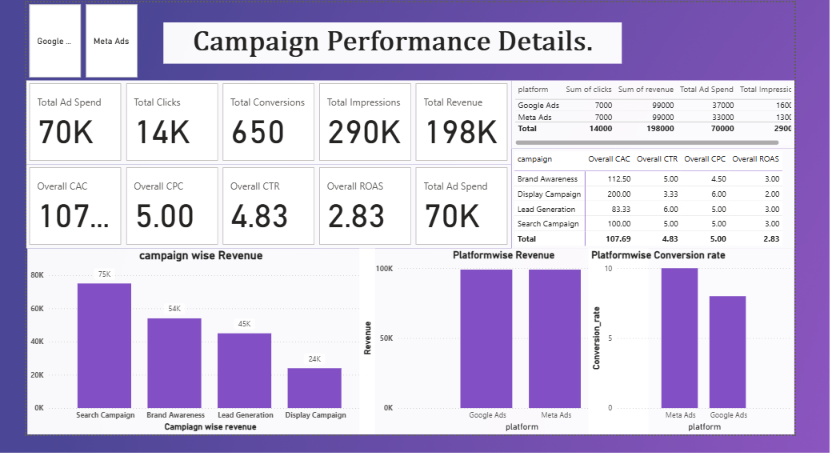

This screenshot's page, from the dashboard's own definition file:
{"tool":"powerbi","page":{"name":"Campaign Performance Details.","canvas":[1280,720],"ordinal":0},"visuals":[{"type":"cardVisual","fields":{"Data":["campaign_performance.Total Ad Spend","campaign_performance.Total Clicks","campaign_performance.Total Conversions","campaign_performance.Total Impressions","campaign_performance.Total Revenue"]},"box":[0,130.4,808.2,140],"z":0},{"type":"cardVisual","fields":{"Data":["campaign_performance.Overall CAC","campaign_performance.Overall CPC","campaign_performance.Overall CTR","campaign_performance.Overall ROAS","campaign_performance.Total Ad Spend"]},"box":[0,270.3,808.2,140],"z":1},{"type":"lineClusteredColumnComboChart","title":" campaign wise Revenue","fields":{"Category":["campaign_performance.campaign"],"Y":["Sum(campaign_performance.revenue)"]},"box":[1.4,410.3,579.1,310.1],"z":2},{"type":"columnChart","title":"Platformwise Revenue","fields":{"Category":["campaign_performance.platform"],"Y":["Sum(campaign_performance.revenue)"]},"box":[554.4,410.3,481.6,310.1],"z":3},{"type":"lineStackedColumnComboChart","title":"Platformwise Conversion rate","fields":{"Category":["campaign_performance.platform"],"Y":["Sum(campaign_performance.conversion_rate)"]},"box":[937.2,410.3,343.1,310.1],"z":4},{"type":"pivotTable","fields":{"Rows":["campaign_performance.campaign"],"Values":["campaign_performance.Overall CAC","campaign_performance.Overall CTR","campaign_performance.Overall CPC","campaign_performance.Overall ROAS"]},"box":[808.2,242.9,472,167.4],"z":5},{"type":"tableEx","fields":{"Values":["campaign_performance.platform","Sum(campaign_performance.clicks)","Sum(campaign_performance.revenue)","campaign_performance.Total Ad Spend","campaign_performance.Total Impressions"]},"box":[808.3,130,471.7,113.3],"z":6},{"type":"textbox","box":[227.8,32.9,764.3,68.6],"z":7},{"type":"advancedSlicerVisual","fields":{"Values":["campaign_performance.platform"]},"box":[993.3,0,286.7,130],"z":8}]}

Visuals, with their boxes in screenshot pixels (x1, y1, x2, y2):
cardVisual - campaign_performance.Total Ad Spend x campaign_performance.Total Clicks: crop(24, 78, 508, 162)
cardVisual - campaign_performance.Overall CAC x campaign_performance.Overall CPC: crop(24, 162, 508, 246)
" campaign wise Revenue" lineClusteredColumnComboChart: crop(25, 246, 372, 432)
"Platformwise Revenue" columnChart: crop(356, 246, 645, 432)
"Platformwise Conversion rate" lineStackedColumnComboChart: crop(586, 246, 792, 432)
pivotTable - campaign_performance.campaign x campaign_performance.Overall CAC: crop(508, 146, 791, 246)
tableEx - campaign_performance.platform x Sum(campaign_performance.clicks): crop(508, 78, 791, 146)
textbox: crop(160, 20, 619, 61)
advancedSlicerVisual - campaign_performance.platform: crop(619, 0, 791, 78)
